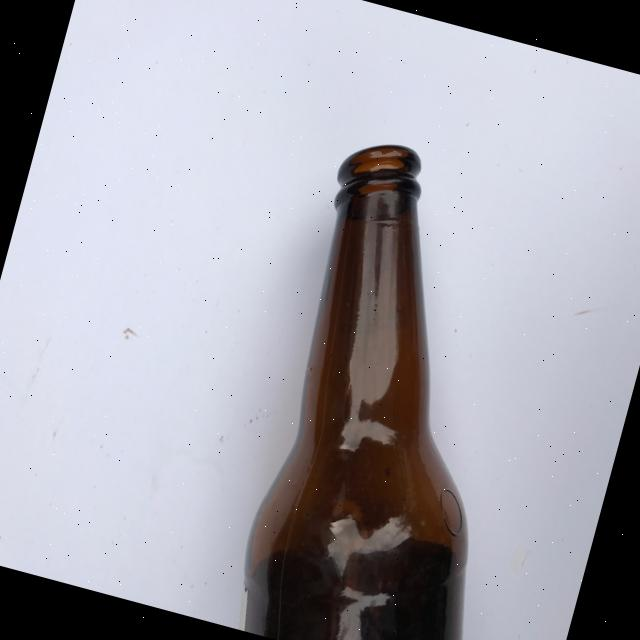glass: (216, 129, 591, 640)
